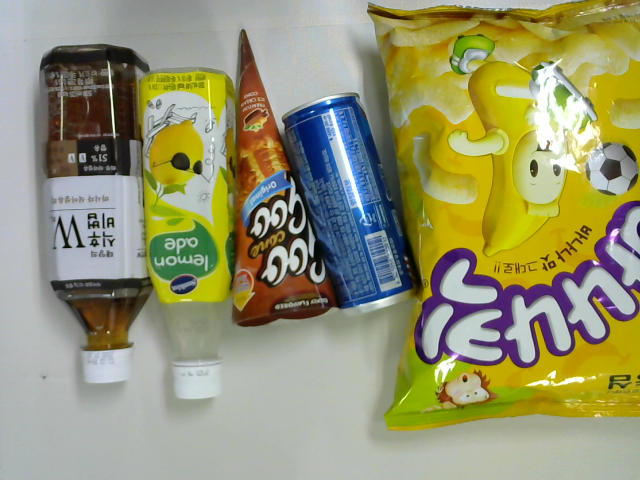Banana_Kick: (367, 1, 640, 433)
GooGoo_Cone_CVS: (225, 27, 337, 329)
Pepsi_Cola_Can_250ml: (283, 92, 419, 319)
Post-meal_recipe_W_tea_500ml: (34, 43, 153, 388)
Sunkist_Lemonaid_Pet: (136, 67, 231, 404)
